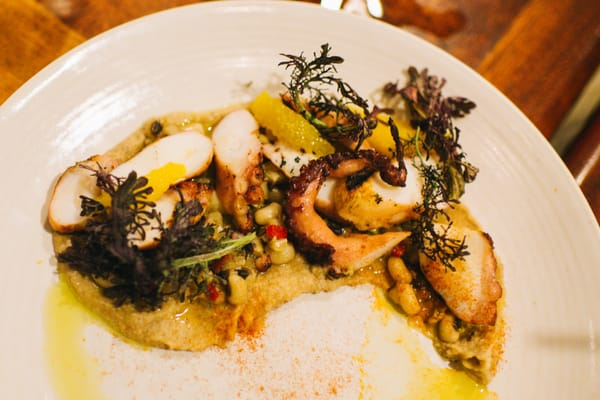curry: (9, 0, 599, 393)
sandwich: (41, 21, 518, 379)
